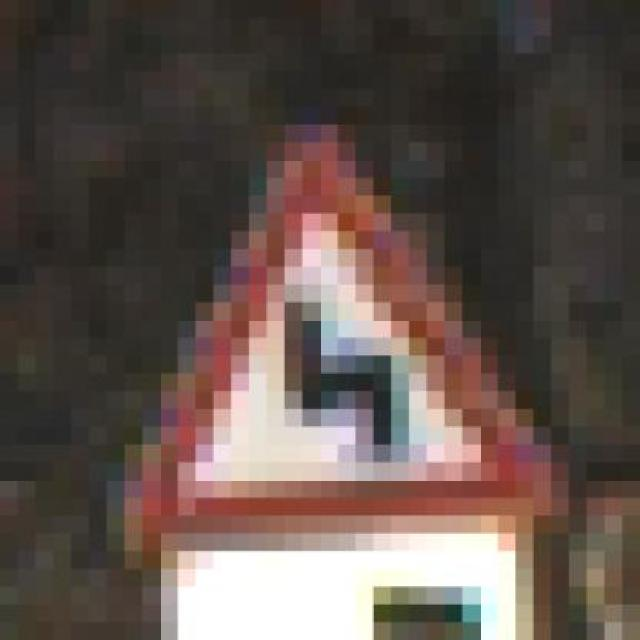Left Zig Zag Traffic: (107, 124, 587, 551)
